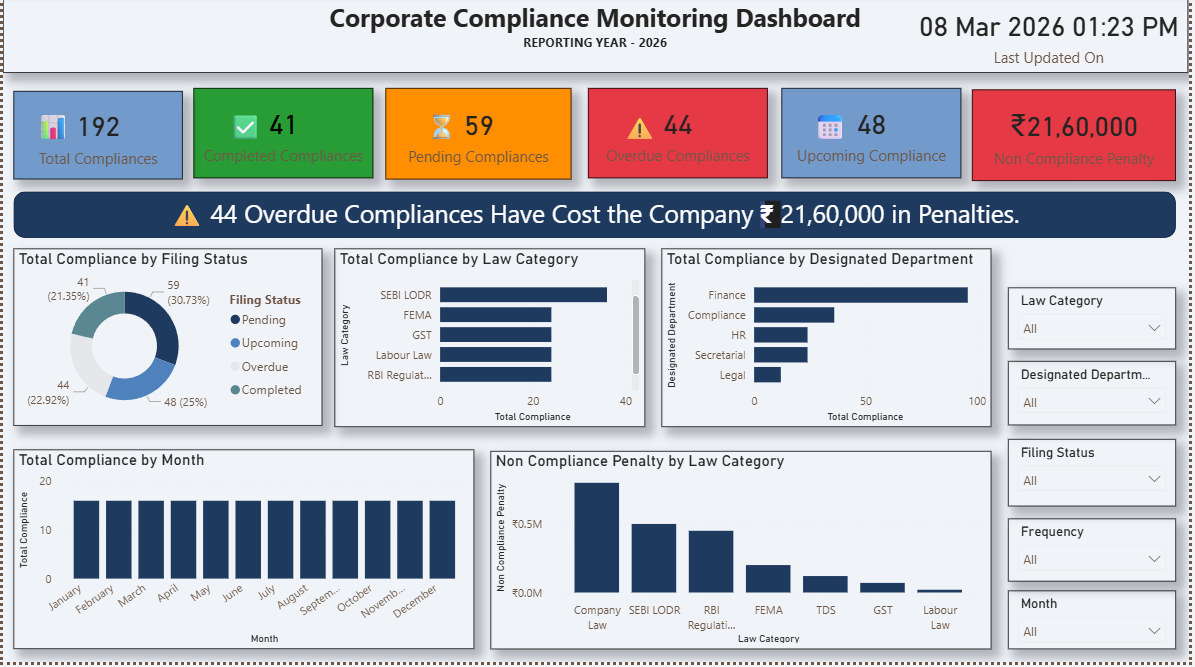

Layout of this report page (visuals, bound fields, positions):
{"tool":"powerbi","page":{"name":"Page 2","canvas":[1280,720],"ordinal":0},"visuals":[{"type":"slicer","fields":{"Values":["Yearly Compliance Tracker.Law Category"]},"box":[1084.9,315.7,181.4,66.4],"z":0},{"type":"slicer","fields":{"Values":["Yearly Compliance Tracker.Designated Department"]},"box":[1084.9,395.1,181.4,69.6],"z":1000},{"type":"slicer","fields":{"Values":["Yearly Compliance Tracker.Filing Status"]},"box":[1084.9,479.3,181.4,72.9],"z":2000},{"type":"slicer","fields":{"Values":["Yearly Compliance Tracker.Frequency"]},"box":[1084.9,565.1,181.4,68],"z":3000},{"type":"slicer","fields":{"Values":["Yearly Compliance Tracker.Due Date.Variation.Date Hierarchy.Month"]},"box":[1084.9,642.8,181.4,63.1],"z":4000},{"type":"card","fields":{"Values":["Yearly Compliance Tracker.Completed Compliances"]},"box":[205.6,100.4,194.3,97.2],"z":5000},{"type":"card","fields":{"Values":["Yearly Compliance Tracker.Pending Compliances"]},"box":[412.9,100.4,200.8,98.8],"z":6000},{"type":"card","fields":{"Values":["Yearly Compliance Tracker.Overdue Compliances"]},"box":[631.5,100.4,194.3,97.2],"z":7000},{"type":"card","fields":{"Values":["Yearly Compliance Tracker.Upcoming Compliance"]},"box":[840.4,100.4,194.3,97.2],"z":8000},{"type":"card","fields":{"Values":["Yearly Compliance Tracker.Non Compliance Penalty"]},"box":[1046,102,220.2,98.8],"z":9000},{"type":"card","fields":{"Values":["CountNonNull(Yearly Compliance Tracker.Compliance ID)"]},"box":[11.3,103.6,183,95.5],"z":10000},{"type":"donutChart","fields":{"Category":["Yearly Compliance Tracker.Filing Status"],"Y":["CountNonNull(Yearly Compliance Tracker.Compliance ID)"]},"box":[11.3,273.6,333.6,191.1],"z":11000},{"type":"barChart","fields":{"Category":["Yearly Compliance Tracker.Law Category"],"Y":["CountNonNull(Yearly Compliance Tracker.Compliance ID)"]},"box":[357.8,273.6,335.2,192.7],"z":12000},{"type":"barChart","fields":{"Category":["Yearly Compliance Tracker.Designated Department"],"Y":["CountNonNull(Yearly Compliance Tracker.Compliance ID)"]},"box":[710.8,273.6,356.2,192.7],"z":13000},{"type":"columnChart","fields":{"Category":["Yearly Compliance Tracker.Due Date.Variation.Date Hierarchy.Month"],"Y":["CountNonNull(Yearly Compliance Tracker.Compliance ID)"]},"box":[11.3,490.6,497.1,215.4],"z":14000},{"type":"columnChart","fields":{"Category":["Yearly Compliance Tracker.Law Category"],"Y":["Yearly Compliance Tracker.Non Compliance Penalty"]},"box":[526.2,492.2,540.8,213.7],"z":15000},{"type":"textbox","box":[0,0,1279.2,84.2],"z":16000},{"type":"card","fields":{"Values":["Yearly Compliance Tracker.Last Updated On"]},"box":[978,0,301.2,84.2],"z":17000},{"type":"textbox","box":[30.8,118.2,50.2,63.1],"z":18000},{"type":"textbox","box":[238,118.2,64.8,48.6],"z":19000},{"type":"textbox","box":[450.1,100.4,47,66.4],"z":20000},{"type":"textbox","box":[869.5,118.2,43.7,48.6],"z":21000},{"type":"textbox","box":[663.9,118.2,47,48.6],"z":22000},{"type":"shape","box":[11.3,212.1,1254.9,50.2],"z":22001},{"type":"textbox","box":[11.3,212.1,1254.9,50.2],"z":22002},{"type":"card","fields":{"Values":["Yearly Compliance Tracker.Overdue Compliances"]},"box":[194.6,219.2,75.6,51],"z":22003},{"type":"card","fields":{"Values":["Yearly Compliance Tracker.Non Compliance Penalty"]},"box":[797.5,219.2,181.4,51],"z":22004}]}

Visuals, with their boxes in screenshot pixels (x1, y1, x2, y2), scaled from the page's 1280x720 canvas onto the 1195x667 screenshot:
slicer - Yearly Compliance Tracker.Law Category: bbox=(1013, 292, 1182, 354)
slicer - Yearly Compliance Tracker.Designated Department: bbox=(1013, 366, 1182, 430)
slicer - Yearly Compliance Tracker.Filing Status: bbox=(1013, 444, 1182, 512)
slicer - Yearly Compliance Tracker.Frequency: bbox=(1013, 524, 1182, 586)
slicer - Yearly Compliance Tracker.Due Date.Variation.Date Hierarchy.Month: bbox=(1013, 595, 1182, 654)
card - Yearly Compliance Tracker.Completed Compliances: bbox=(192, 93, 373, 183)
card - Yearly Compliance Tracker.Pending Compliances: bbox=(385, 93, 573, 185)
card - Yearly Compliance Tracker.Overdue Compliances: bbox=(590, 93, 771, 183)
card - Yearly Compliance Tracker.Upcoming Compliance: bbox=(785, 93, 966, 183)
card - Yearly Compliance Tracker.Non Compliance Penalty: bbox=(977, 94, 1182, 186)
card - CountNonNull(Yearly Compliance Tracker.Compliance ID): bbox=(11, 96, 181, 184)
donutChart - Yearly Compliance Tracker.Filing Status x CountNonNull(Yearly Compliance Tracker.Compliance ID): bbox=(11, 253, 322, 430)
barChart - Yearly Compliance Tracker.Law Category x CountNonNull(Yearly Compliance Tracker.Compliance ID): bbox=(334, 253, 647, 432)
barChart - Yearly Compliance Tracker.Designated Department x CountNonNull(Yearly Compliance Tracker.Compliance ID): bbox=(664, 253, 996, 432)
columnChart - Yearly Compliance Tracker.Due Date.Variation.Date Hierarchy.Month x CountNonNull(Yearly Compliance Tracker.Compliance ID): bbox=(11, 454, 475, 654)
columnChart - Yearly Compliance Tracker.Law Category x Yearly Compliance Tracker.Non Compliance Penalty: bbox=(491, 456, 996, 654)
textbox: bbox=(0, 0, 1194, 78)
card - Yearly Compliance Tracker.Last Updated On: bbox=(913, 0, 1194, 78)
textbox: bbox=(29, 109, 76, 168)
textbox: bbox=(222, 109, 283, 155)
textbox: bbox=(420, 93, 464, 155)
textbox: bbox=(812, 109, 853, 155)
textbox: bbox=(620, 109, 664, 155)
shape: bbox=(11, 196, 1182, 243)
textbox: bbox=(11, 196, 1182, 243)
card - Yearly Compliance Tracker.Overdue Compliances: bbox=(182, 203, 252, 250)
card - Yearly Compliance Tracker.Non Compliance Penalty: bbox=(745, 203, 914, 250)
